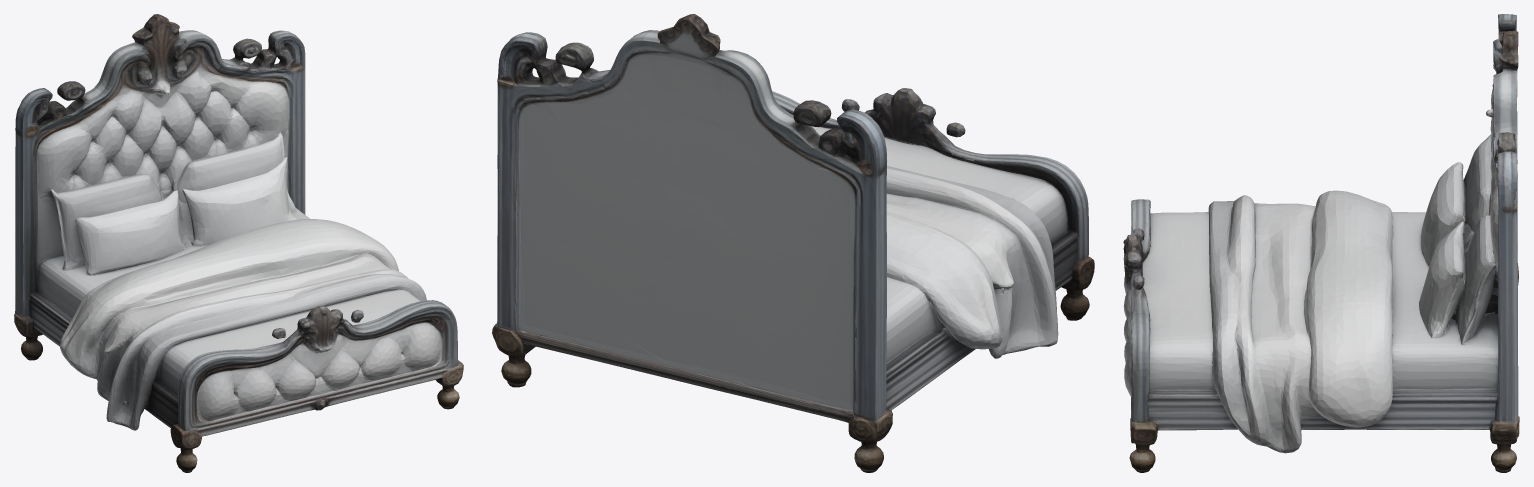
The model's file is bed2.glb.
The picture shows the model from 3 angles, left to right: view 1: azimuth 30°, elevation 25°; view 2: azimuth 150°, elevation 25°; view 3: azimuth 270°, elevation 25°; orthographic projection. The views are drawn at different scales.
Parts seen in each view (by area): view 1: world; view 2: world; view 3: world.
Boxes of the visible parts, x1,y1,x2,y2 form: world: [14, 14, 463, 472]; world: [492, 14, 1094, 472]; world: [1123, 14, 1519, 472].
Bounding box in the file's own units: 1 × 0.9198 × 0.9082.
1 material, 1 textured.
